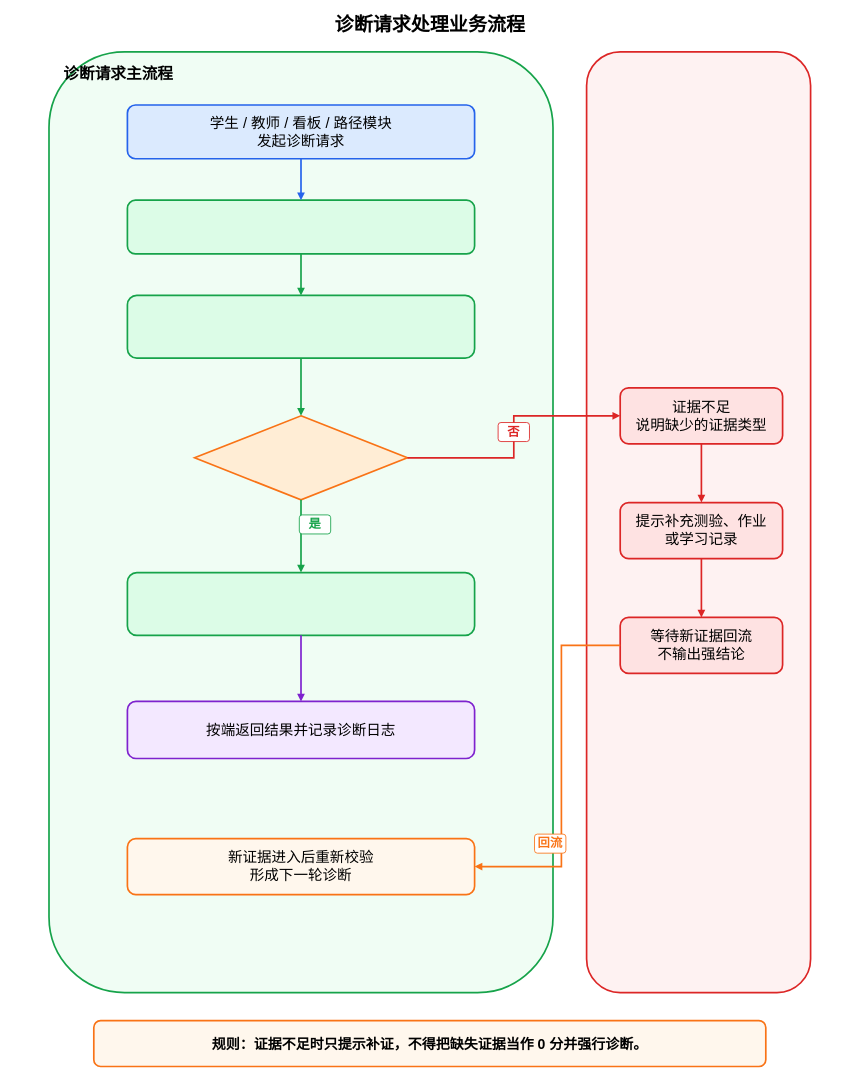
Some shapes in this 859 by 1077 pixel diagram are drawn without their labels. The shapes that lost their labels are listed below. From the top down, each one's box as (x1, y1, x2, y2) in pixels, then its label:
(126, 199, 475, 255): 校验身份、课程范围和诊断对象
(126, 294, 475, 359): 读取画像、课程图谱、测验、作业、 代码题和行为证据
(193, 415, 408, 500): 证据是否足够
(585, 51, 811, 993): 异常与回流
(126, 571, 475, 636): 生成诊断结论 薄弱点、原因、依据等级、建议动作
